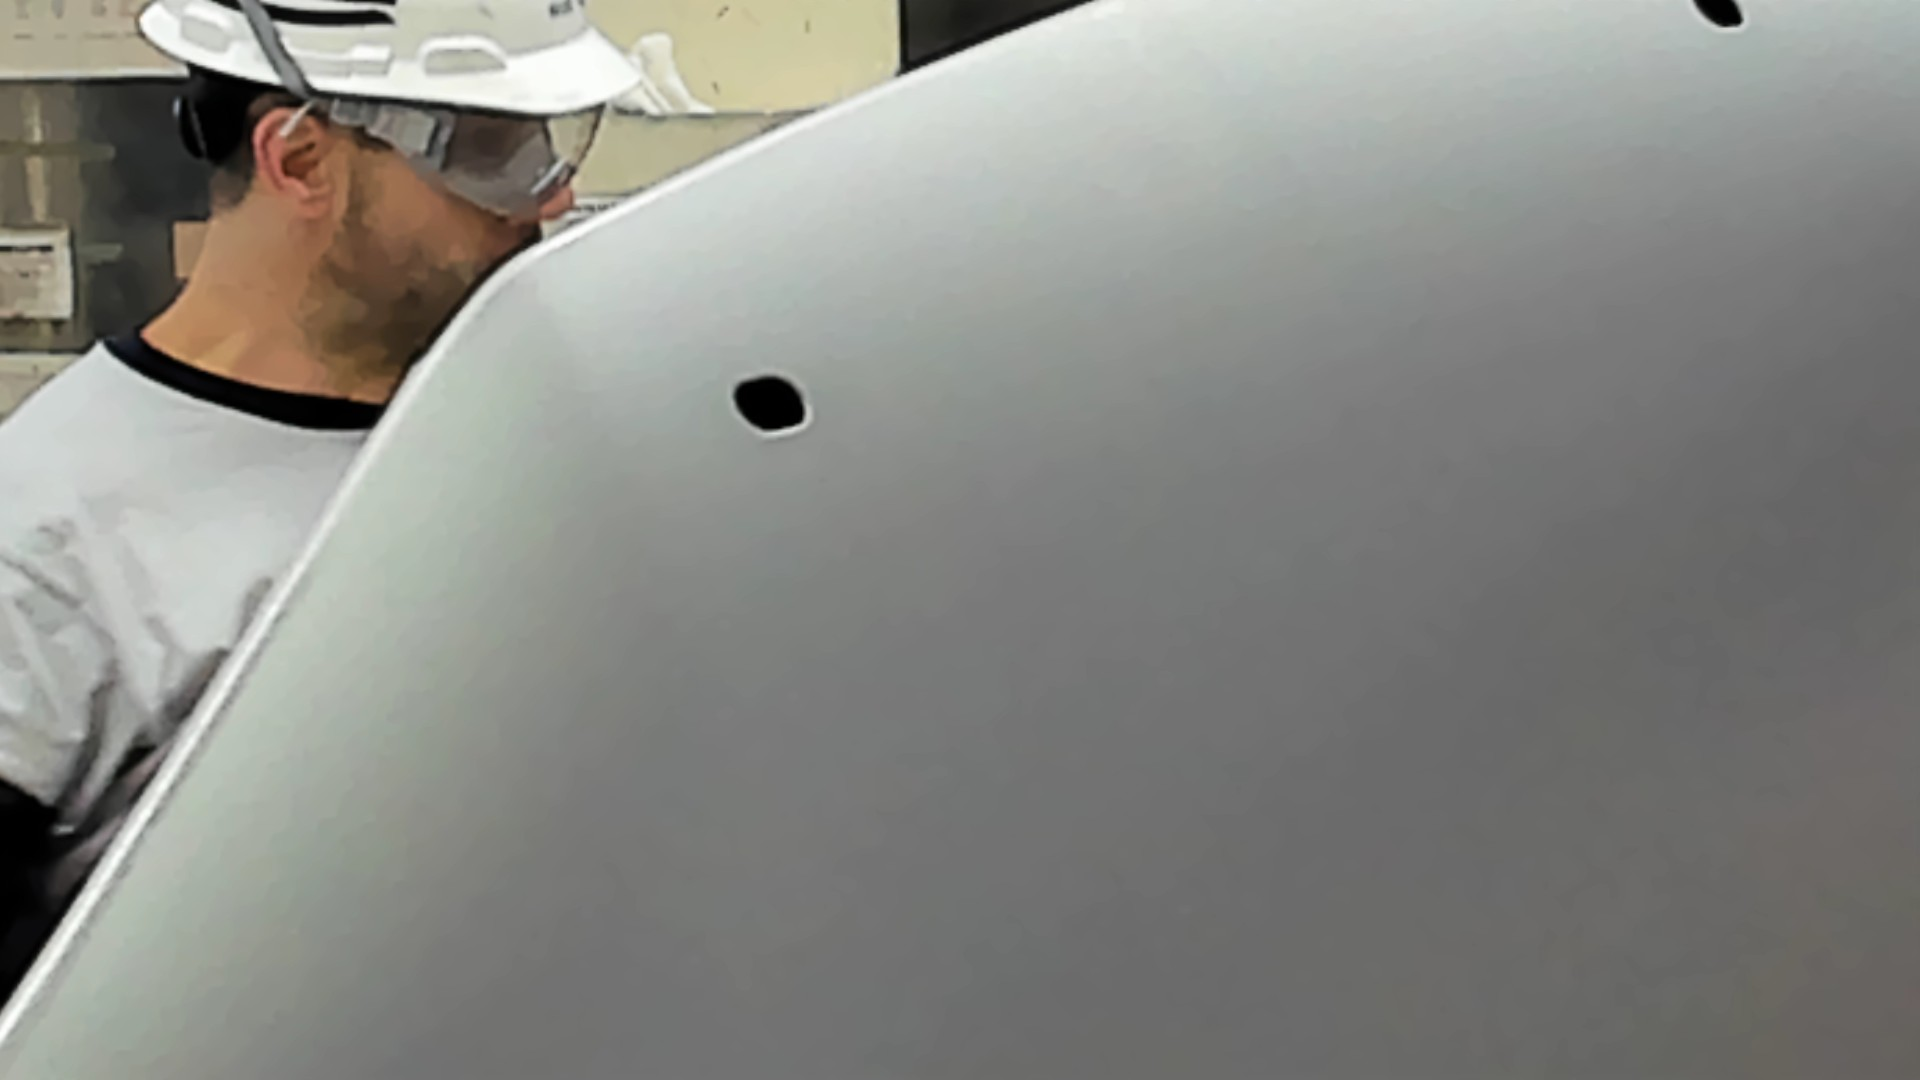amorfo: (723, 371, 819, 436), (1691, 1, 1759, 36)
